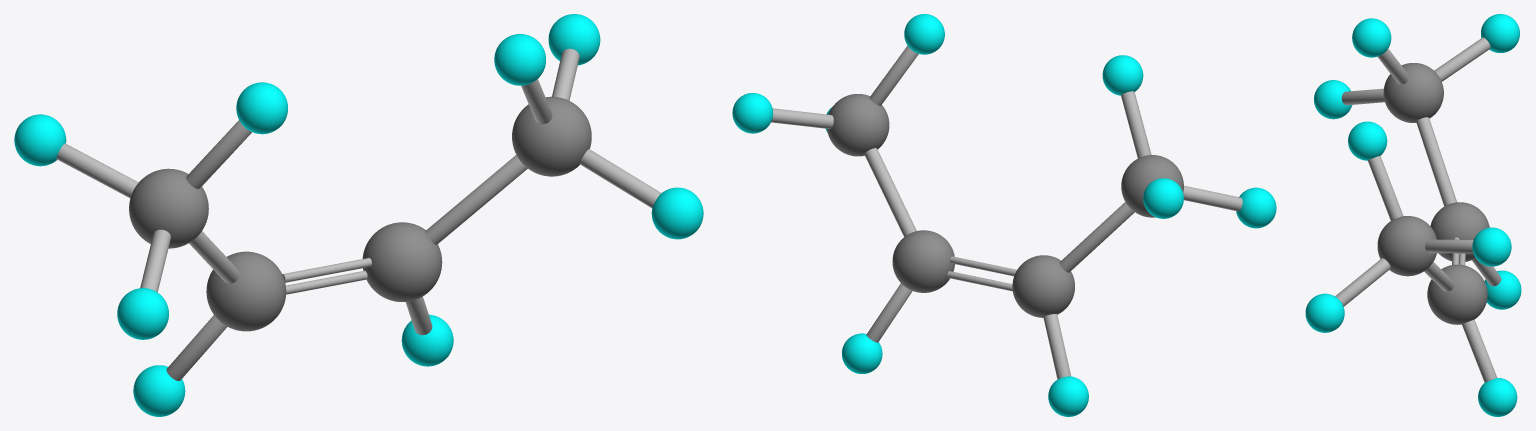
Rendered from cis-butene.glb.
3 views of the same model, side by side, from view 1: azimuth 30°, elevation 25°; view 2: azimuth 150°, elevation 25°; view 3: azimuth 270°, elevation 25° (orthographic). The views are drawn at different scales.
Visible parts, largest first — view 1: CMAtom_1, CMAtom_7, CMAtom_5, CMAtom_0, CMBond_1_Segment_0, CMAtom_3, CMAtom_9, CMAtom_2, CMAtom_8, CMAtom_10, CMAtom_6, CMAtom_11 (+12 smaller); view 2: CMAtom_1, CMAtom_5, CMAtom_0, CMAtom_7, CMBond_1_Segment_0, CMBond_8_Segment_0, CMAtom_11, CMAtom_2, CMAtom_10, CMAtom_6, CMAtom_9, CMAtom_4 (+9 smaller); view 3: CMAtom_0, CMAtom_7, CMAtom_1, CMAtom_5, CMBond_8_Segment_0, CMAtom_9, CMAtom_3, CMAtom_11, CMAtom_4, CMAtom_2, CMAtom_10, CMAtom_8 (+10 smaller).
Part boxes in pixels (x1,y1,x2,y2): CMAtom_1: [362, 222, 442, 301]; CMAtom_7: [129, 168, 208, 248]; CMAtom_5: [206, 251, 286, 331]; CMAtom_0: [512, 96, 591, 176]; CMBond_1_Segment_0: [425, 155, 527, 244]; CMAtom_3: [651, 187, 703, 239]; CMAtom_9: [236, 82, 287, 134]; CMAtom_2: [494, 34, 545, 85]; CMAtom_8: [117, 288, 168, 339]; CMAtom_10: [14, 114, 66, 166]; CMAtom_6: [133, 365, 185, 416]; CMAtom_11: [548, 14, 600, 65]; CMAtom_1: [892, 230, 954, 292]; CMAtom_5: [1012, 255, 1074, 317]; CMAtom_0: [827, 94, 889, 156]; CMAtom_7: [1121, 155, 1183, 217]; CMBond_1_Segment_0: [864, 148, 916, 236]; CMBond_8_Segment_0: [1059, 202, 1134, 272]; CMAtom_11: [732, 93, 773, 133]; CMAtom_2: [904, 14, 944, 54]; CMAtom_10: [1143, 178, 1183, 218]; CMAtom_6: [1048, 376, 1088, 416]; CMAtom_9: [1102, 55, 1143, 95]; CMAtom_4: [842, 333, 882, 373]; CMAtom_0: [1377, 216, 1436, 276]; CMAtom_7: [1383, 63, 1443, 122]; CMAtom_1: [1427, 264, 1487, 324]; CMAtom_5: [1430, 202, 1489, 261]; CMBond_8_Segment_0: [1416, 117, 1456, 206]; CMAtom_9: [1352, 18, 1391, 57]; CMAtom_3: [1305, 293, 1344, 332]; CMAtom_11: [1472, 227, 1511, 266]; CMAtom_4: [1478, 378, 1517, 416]; CMAtom_2: [1348, 121, 1387, 160]; CMAtom_10: [1481, 14, 1519, 52]; CMAtom_8: [1314, 80, 1352, 119].
Size of the model in its own units: 5.18 by 3.41 by 2.2.
